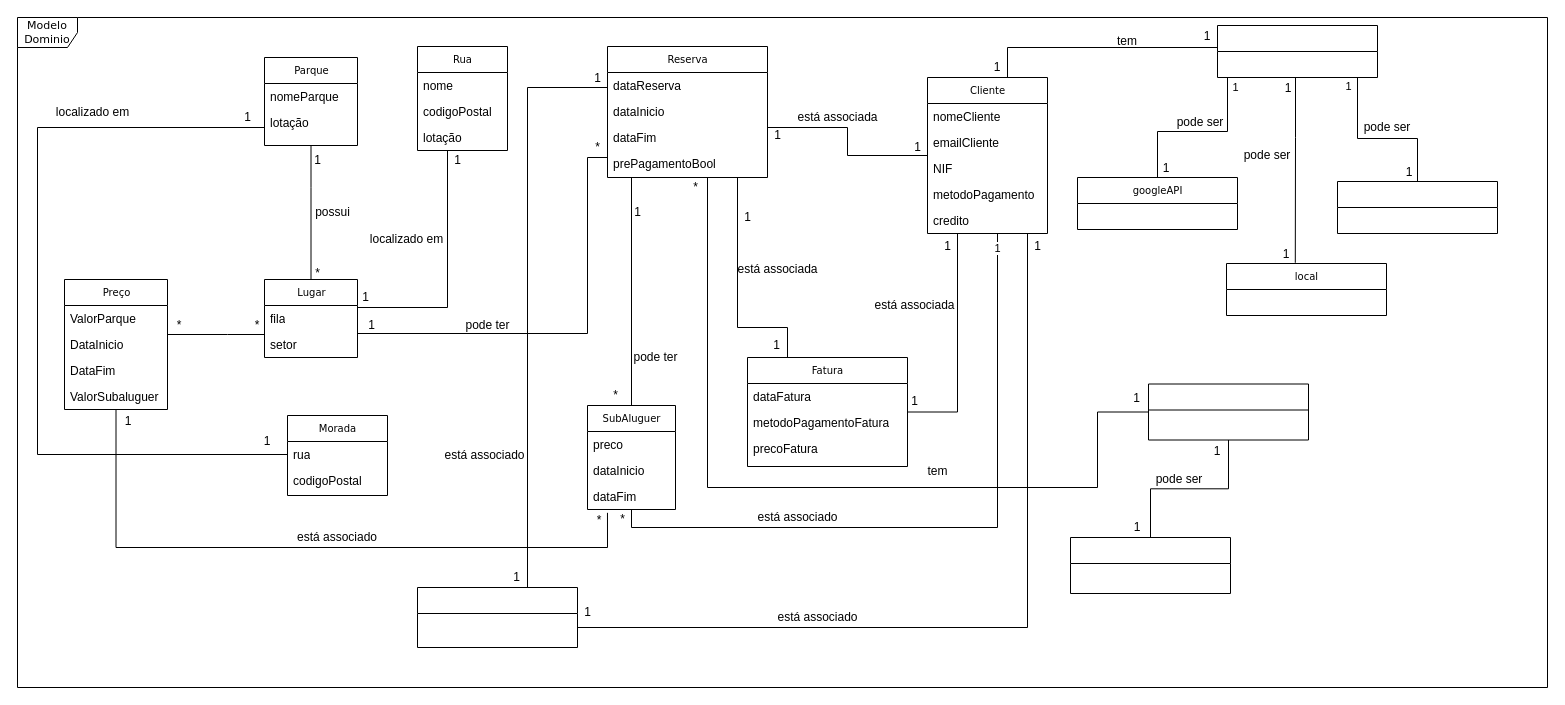
Image size: 1565x705. Some labels were removed from this diagram. The shapes that lost their labels are listed below. From the top down, each one's centre as x and y in pixels, then its label:
At pixel 1297 51: "Identificação".
At pixel 1417 207: "facebookAPI".
At pixel 1228 411: "Pagamento".
At pixel 1150 565: "PayPalAPI".
At pixel 497 617: "QRCode".
